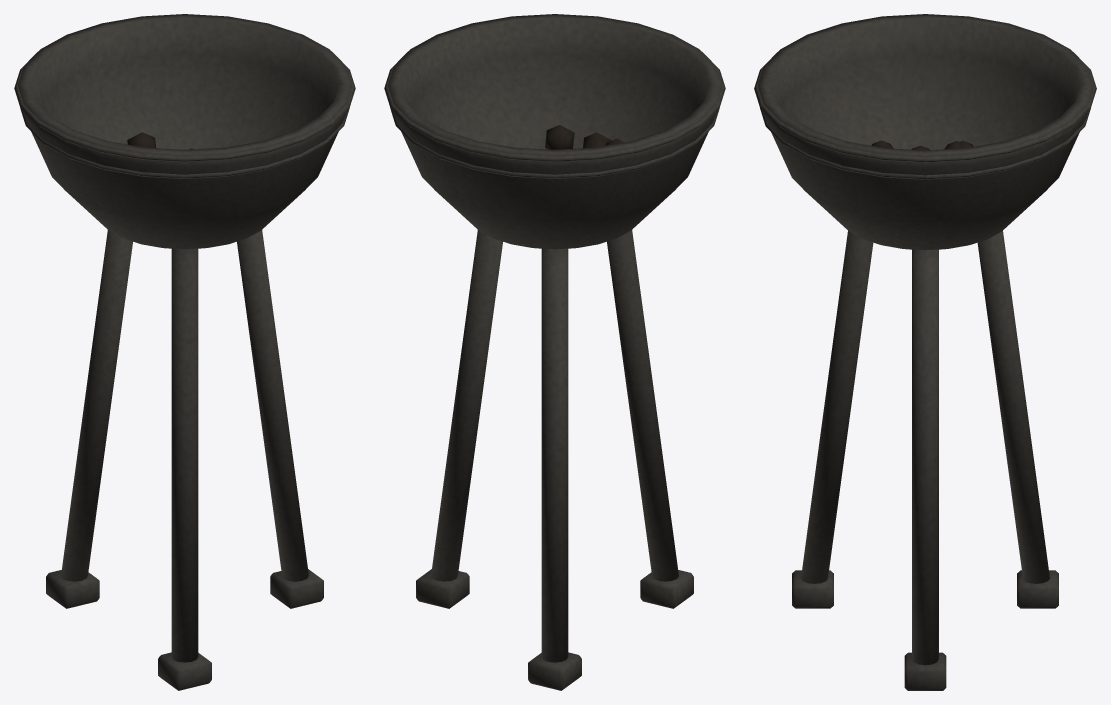
Rendered from arena-brazier.glb.
The picture shows the model from 3 angles, left to right: view 1: azimuth 30°, elevation 25°; view 2: azimuth 150°, elevation 25°; view 3: azimuth 270°, elevation 25°; orthographic projection.
Parts seen in each view (by area): view 1: arena-brazier; view 2: arena-brazier; view 3: arena-brazier.
Boxes of the visible parts, x1,y1,x2,y2 form: arena-brazier: (14,14,355,690); arena-brazier: (384,14,725,690); arena-brazier: (754,14,1096,690).
Size of the model in its own units: 0.8 by 1.4 by 0.8.
Materials: 1 (1 with a texture image).
